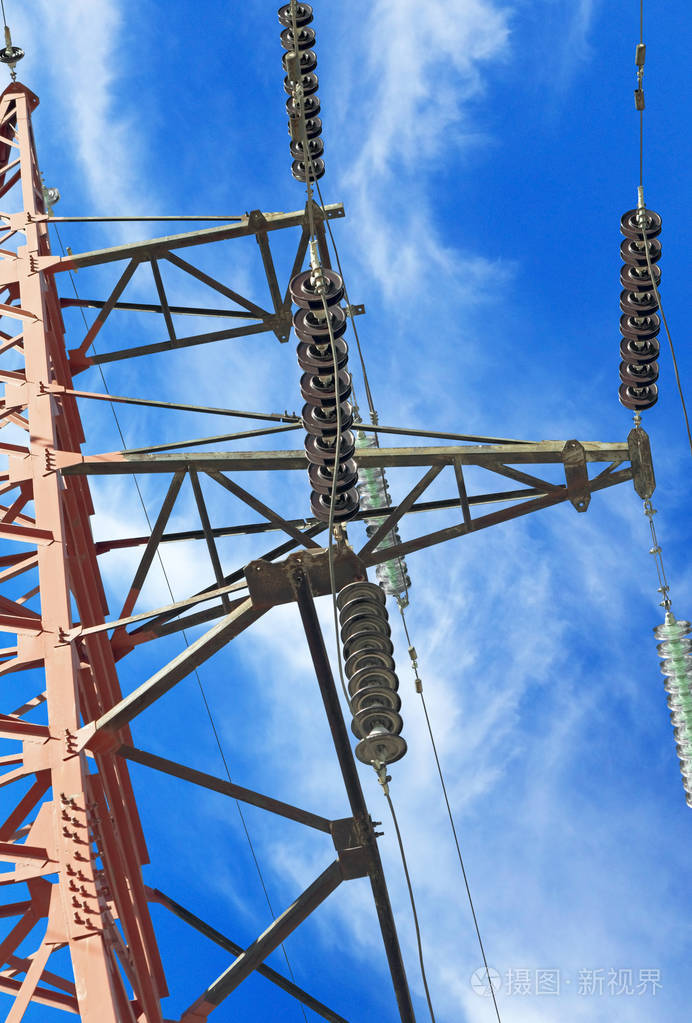insulator: (285, 272, 361, 523), (336, 582, 408, 768), (616, 208, 669, 414), (274, 4, 334, 182), (353, 448, 415, 595), (648, 620, 692, 801)
